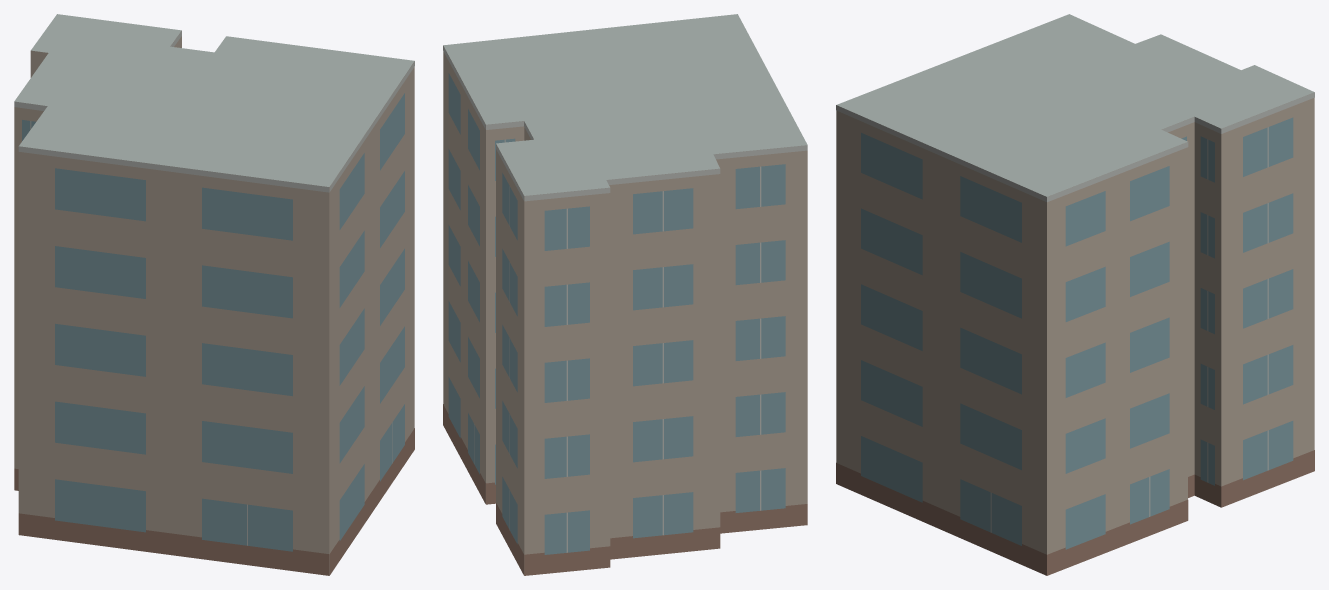
The model's file is survey-upis-32841541.glb.
The picture shows the model from 3 angles, left to right: view 1: azimuth 30°, elevation 25°; view 2: azimuth 150°, elevation 25°; view 3: azimuth 270°, elevation 25°; orthographic projection. The views are drawn at different scales.
Visible parts, largest first — view 1: survey-upis-32841541.tmp; view 2: survey-upis-32841541.tmp; view 3: survey-upis-32841541.tmp.
Part boxes in pixels (x1,y1,x2,y2): survey-upis-32841541.tmp: (14, 14, 414, 575); survey-upis-32841541.tmp: (443, 14, 807, 575); survey-upis-32841541.tmp: (836, 14, 1314, 575).
Size of the model in its own units: 17.71 by 17.1 by 19.58.
